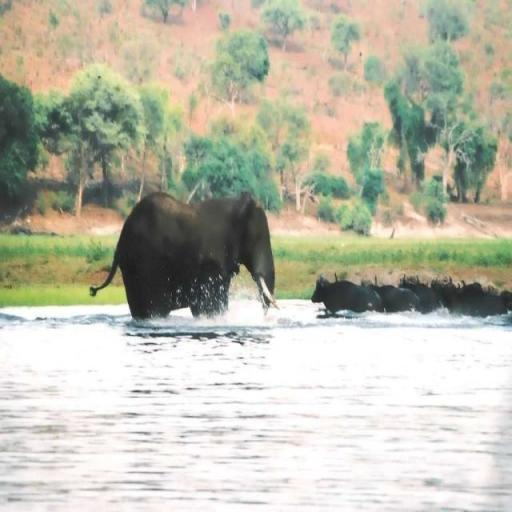Elephant: (89, 188, 280, 322)
